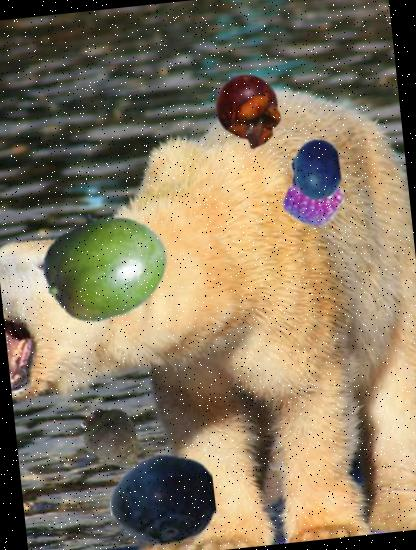Beetroot: (72, 399, 162, 488)
Blueberry: (104, 442, 220, 550)
Huckleberry: (282, 136, 350, 204)
Mango: (35, 194, 176, 335)
Mangostan: (207, 69, 291, 153)
Raspberry: (282, 169, 346, 232)
